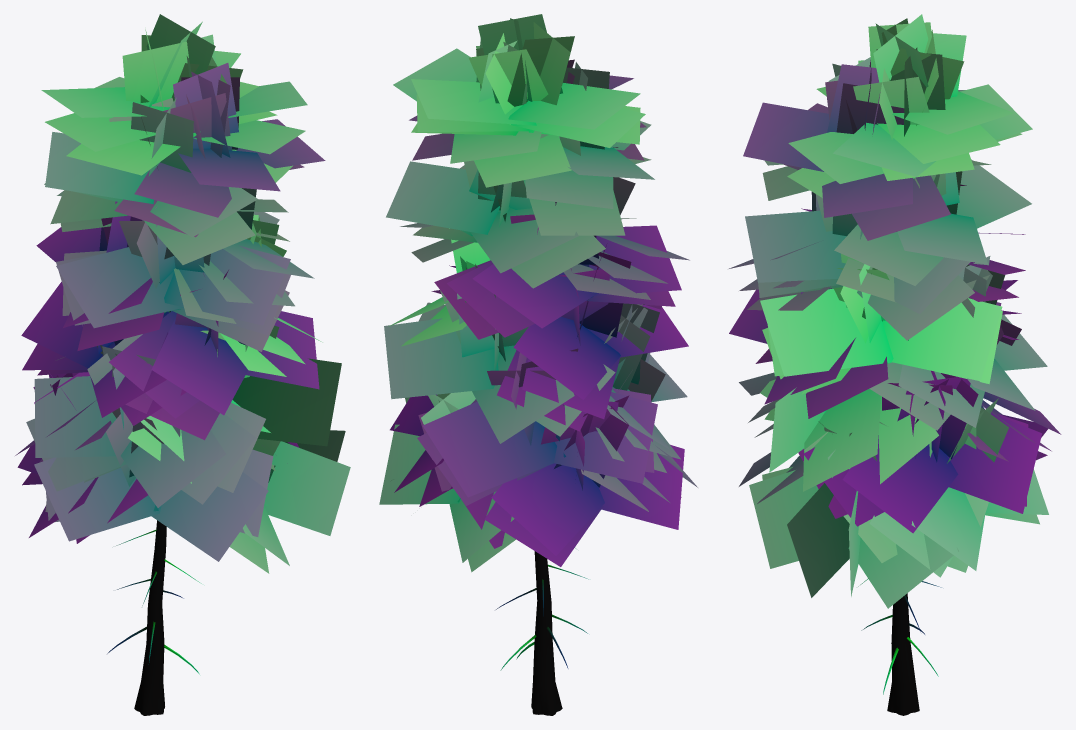
The model's file is Tree_2_2.fbx.
3 renders of one model, left to right at view 1: azimuth 30°, elevation 25°; view 2: azimuth 150°, elevation 25°; view 3: azimuth 270°, elevation 25°, orthographic. The views are drawn at different scales.
Visible parts, largest first — view 1: _2; view 2: _2; view 3: _2.
Boxes of the visible parts, x1,y1,x2,y2 form: _2: (15,14,350,715); _2: (379,14,697,715); _2: (729,14,1061,715).
Size of the model in its own units: 883 by 1958 by 843.
